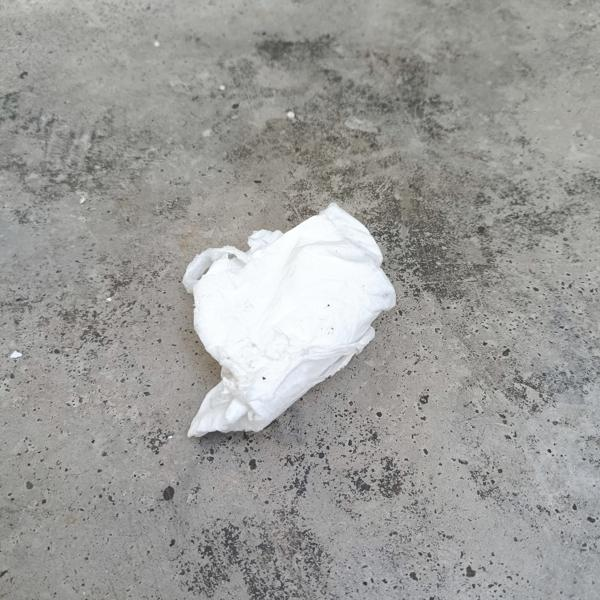Organik: (144, 191, 431, 449)
